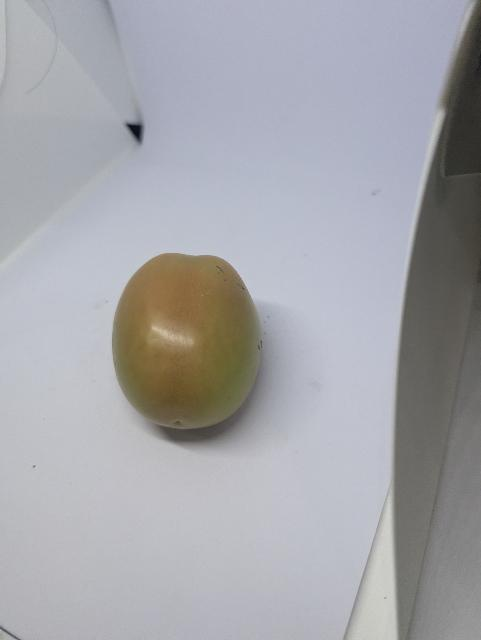breaker: (112, 253, 263, 429)
